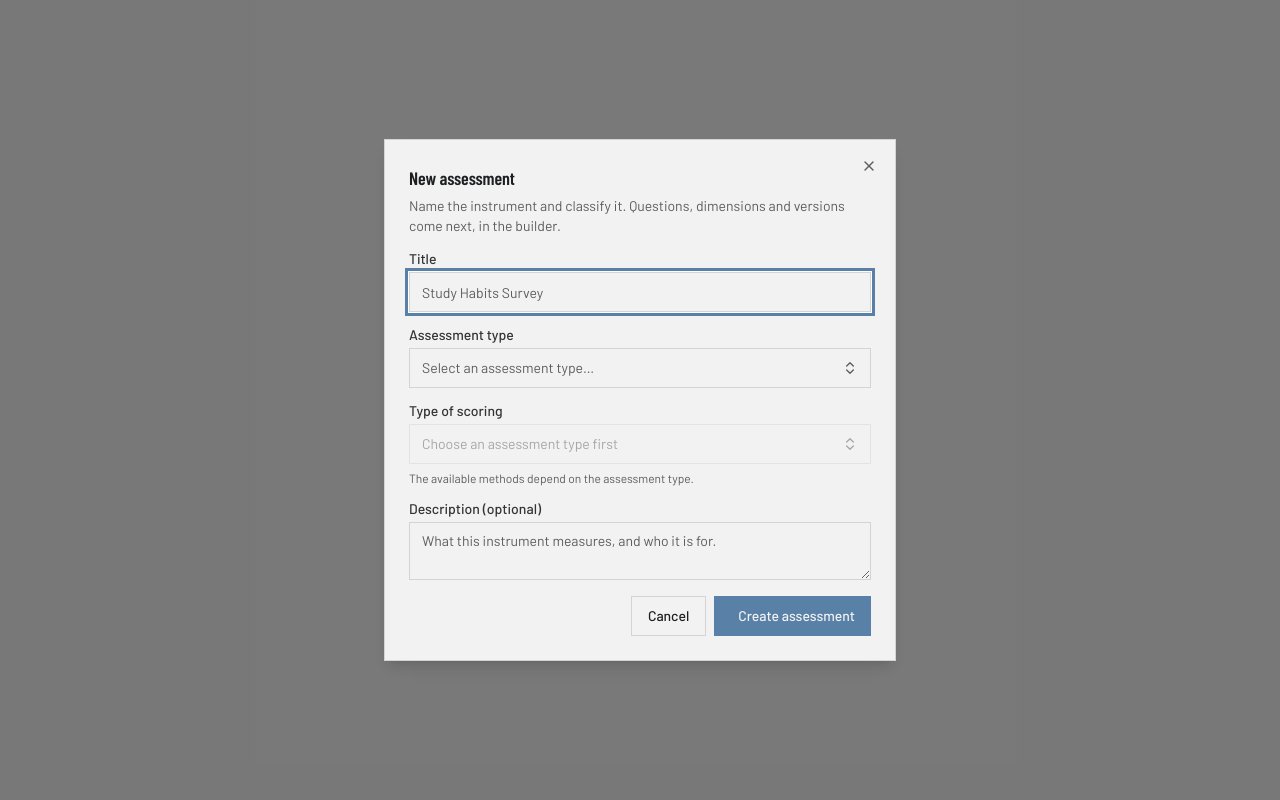
Test case: AssessmentFormDialog › offers only the methods the chosen type allows
What coordinates should you click on to do the following:
click the button labelled "Select an assessment type…"
I would click on:
 (508, 368)
Its box is [409,348,871,388].
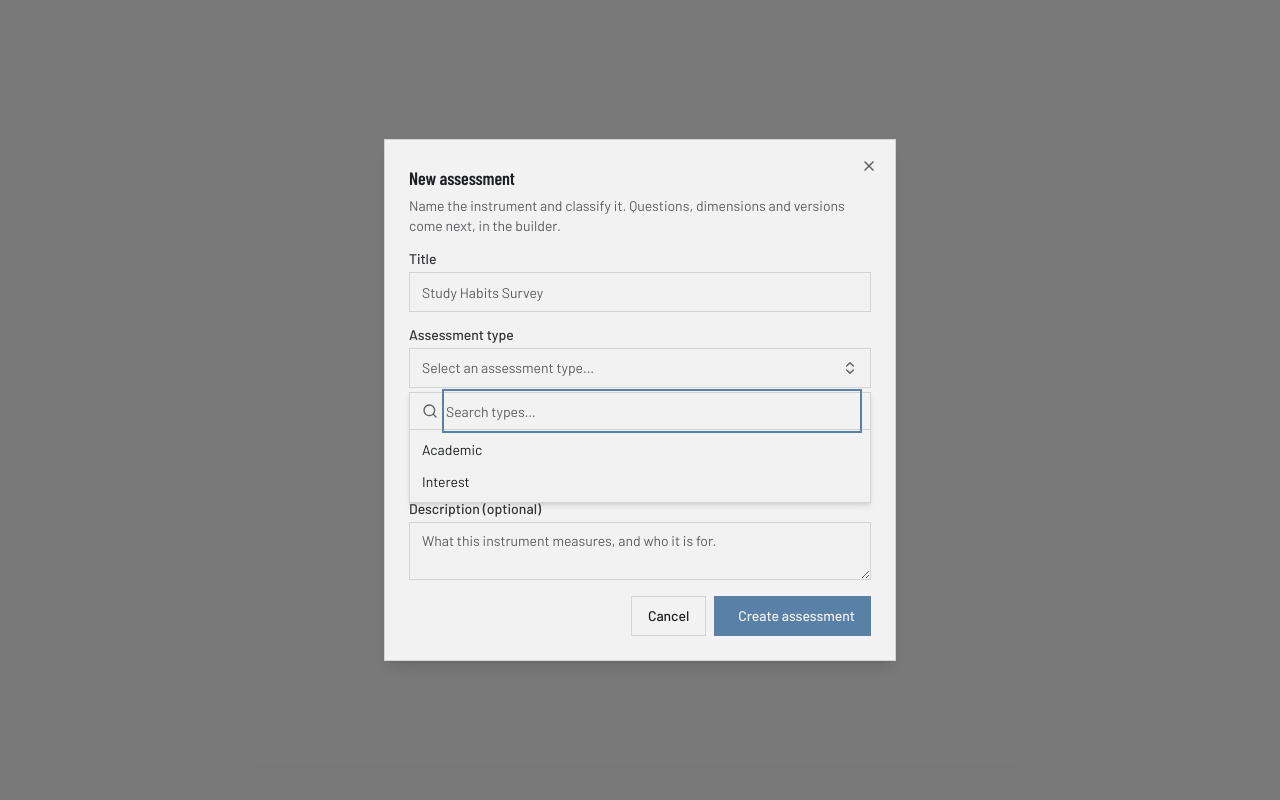
What coordinates should you click on to do the following:
click the option "Interest"
I would click on:
 (446, 482)
Its box is [410,466,870,498].
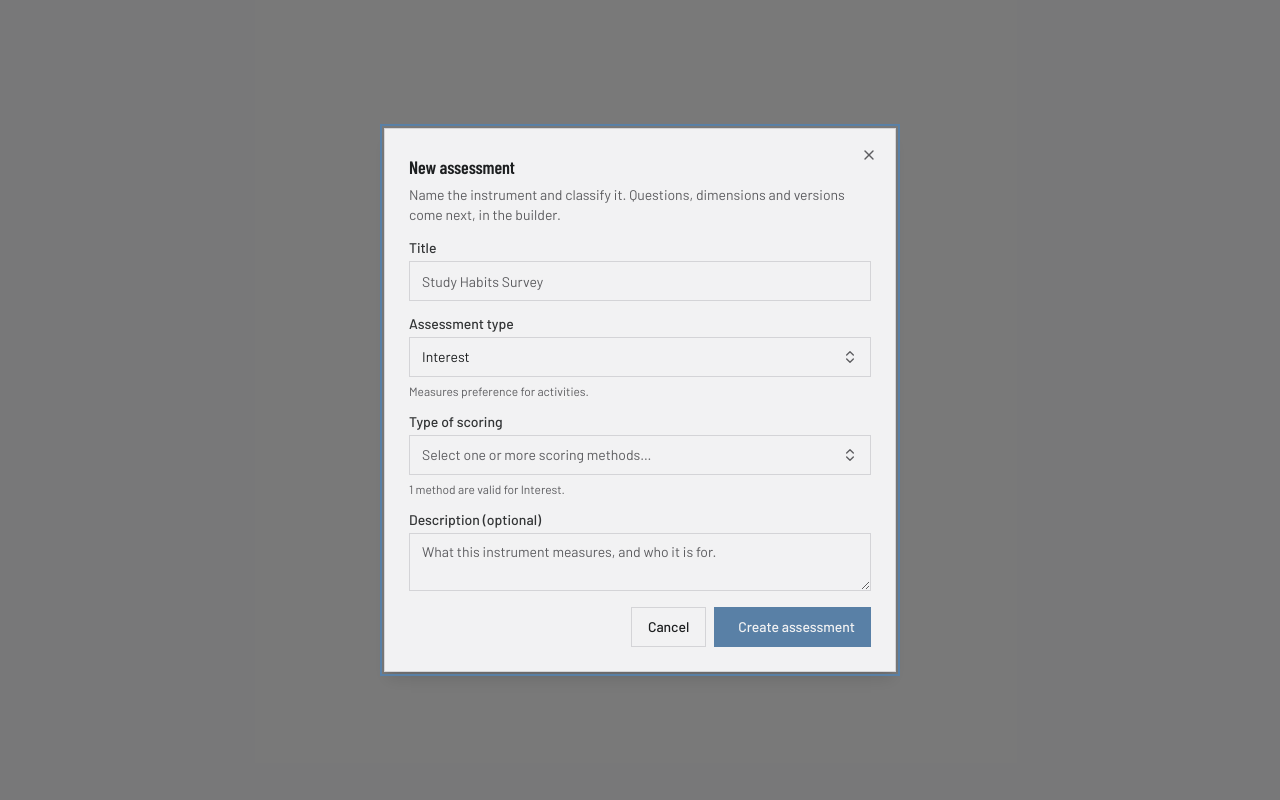
What coordinates should you click on to do the following:
click the button named "type of scoring"
I would click on:
 (640, 455)
Its box is [409,435,871,475].
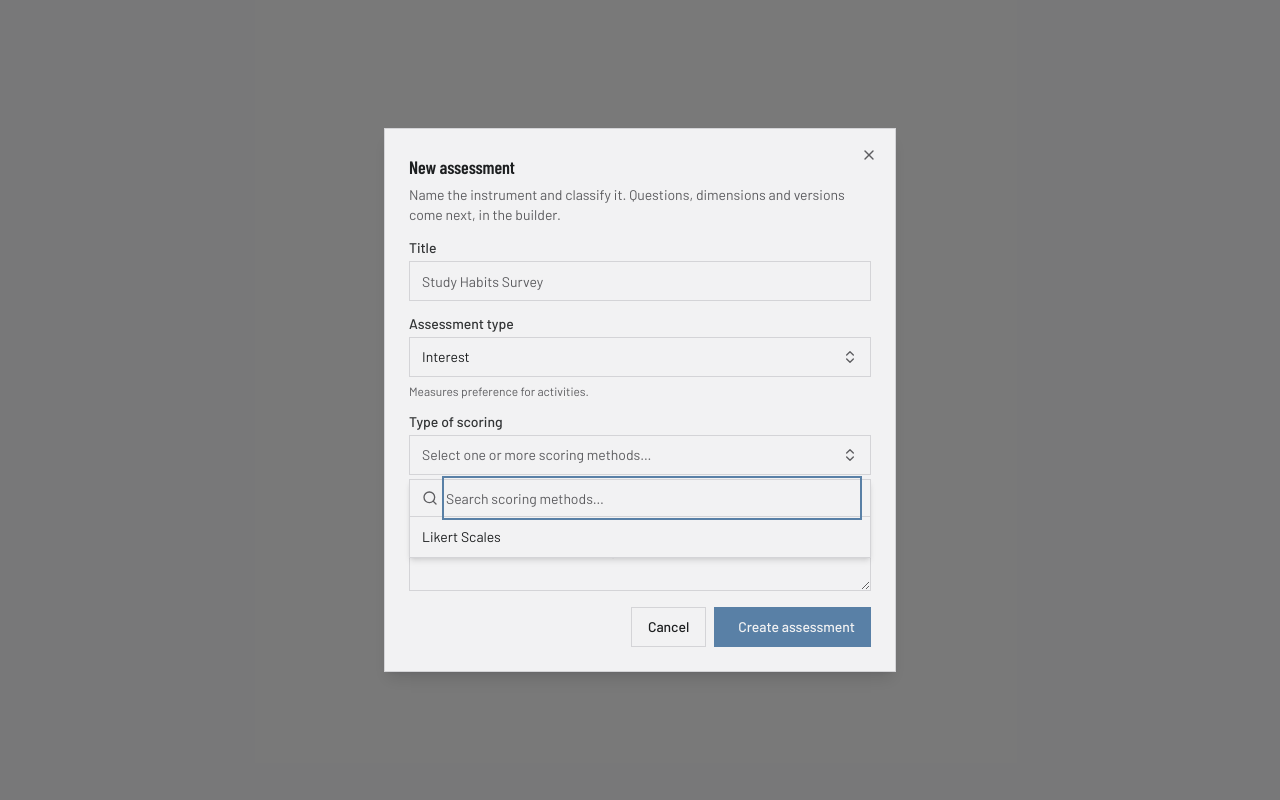
Check: the option "Likert Scales" is shown, box [410,521,870,553]
